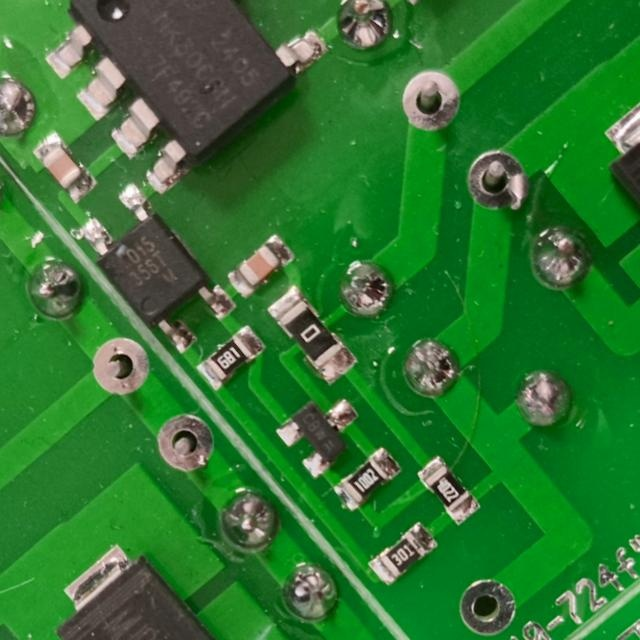chip-capacitor: (217, 229, 296, 302), (29, 131, 97, 205)
chip-resistor: (259, 281, 359, 391), (325, 442, 407, 518), (190, 320, 270, 396), (361, 517, 442, 592), (410, 451, 485, 531)
ic: (18, 0, 334, 201), (62, 176, 238, 364)
transistor: (266, 378, 374, 485)
